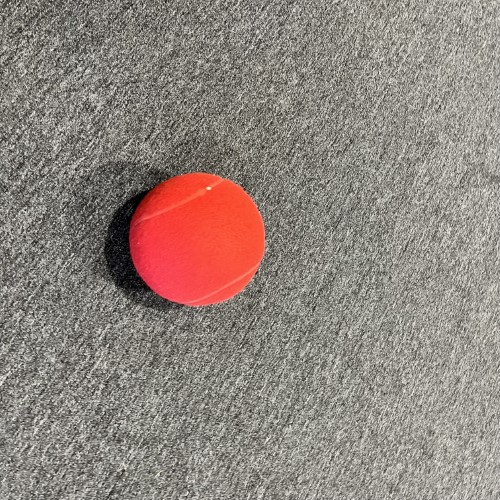red: (127, 170, 268, 309)
